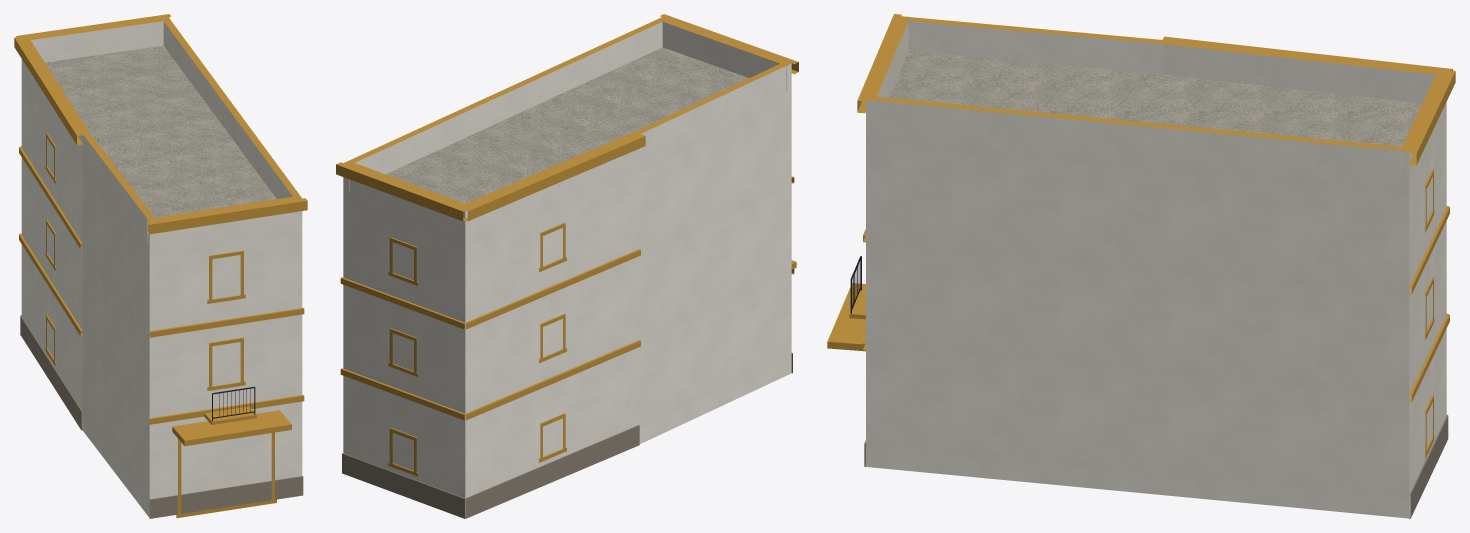
3 renders of one model, left to right at view 1: azimuth 30°, elevation 25°; view 2: azimuth 150°, elevation 25°; view 3: azimuth 270°, elevation 25°, orthographic. The views are drawn at different scales.
Parts seen in each view (by area): view 1: B-w1087131240_muros, B-w1087131240_lejos, B-w1087131240_molduras, B-w1087131240_cubierta, B-w1087131240_remates; view 2: B-w1087131240_muros, B-w1087131240_lejos, B-w1087131240_molduras, B-w1087131240_cubierta; view 3: B-w1087131240_lejos, B-w1087131240_muros, B-w1087131240_cubierta, B-w1087131240_molduras, B-w1087131240_remates.
Boxes of the visible parts, <box> form: B-w1087131240_muros: <box>21,59,302,517</box>; B-w1087131240_lejos: <box>28,45,276,487</box>; B-w1087131240_molduras: <box>14,14,307,518</box>; B-w1087131240_cubierta: <box>21,17,301,242</box>; B-w1087131240_remates: <box>172,386,291,446</box>; B-w1087131240_muros: <box>343,63,791,517</box>; B-w1087131240_lejos: <box>386,47,791,511</box>; B-w1087131240_molduras: <box>336,14,798,518</box>; B-w1087131240_cubierta: <box>343,17,791,208</box>; B-w1087131240_lejos: <box>866,51,1422,510</box>; B-w1087131240_muros: <box>866,100,1446,518</box>; B-w1087131240_cubierta: <box>866,16,1446,180</box>; B-w1087131240_molduras: <box>857,14,1455,518</box>; B-w1087131240_remates: <box>827,256,865,351</box>.
Size of the model in its own units: 8.91 by 11.02 by 16.91.
Materials: 6 (6 with a texture image).
